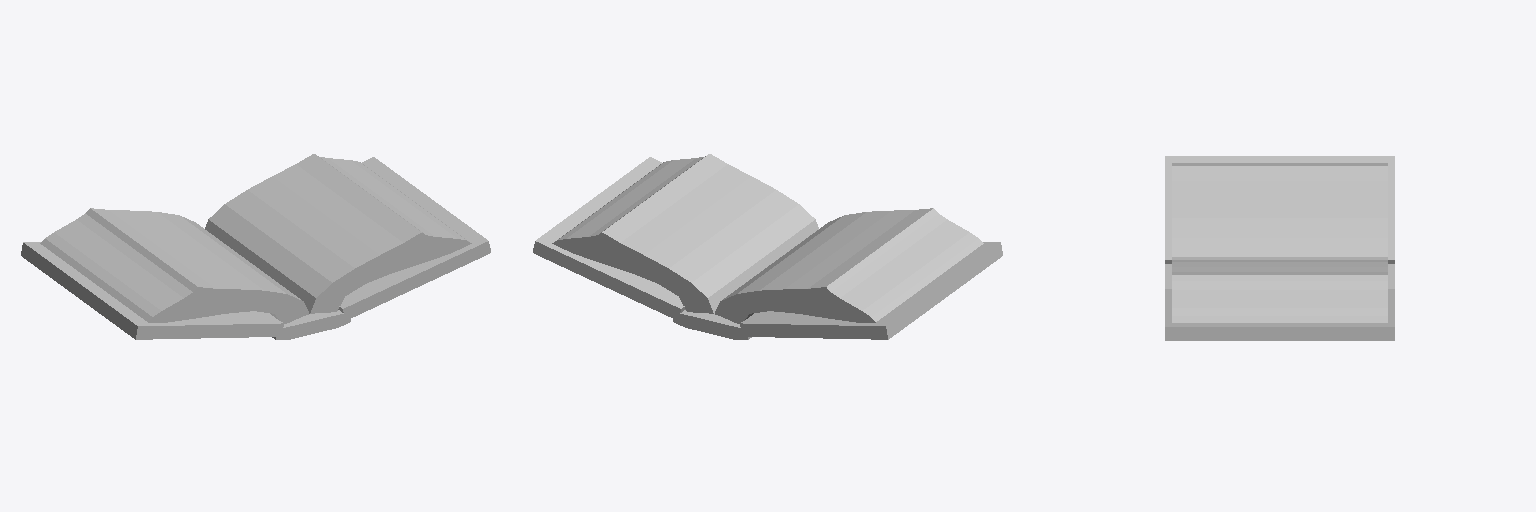
File: open book no pages v1 v0.obj
3 views of the same model, side by side, from view 1: azimuth 30°, elevation 25°; view 2: azimuth 150°, elevation 25°; view 3: azimuth 270°, elevation 25° (orthographic).
Parts seen in each view (by area): view 1: box21 (3), box21 (2), box21 (1), box21; view 2: box21 (3), box21 (2), box21 (1), box21; view 3: box21 (3), box21 (1), box21 (2).
Part boxes in pixels (bbox=[...]): box21 (3): bbox=[40, 154, 471, 323]; box21 (2): bbox=[21, 242, 283, 339]; box21 (1): bbox=[338, 157, 490, 320]; box21: bbox=[272, 310, 350, 339]; box21 (3): bbox=[552, 154, 983, 323]; box21 (2): bbox=[740, 242, 1002, 339]; box21 (1): bbox=[533, 157, 685, 320]; box21: bbox=[673, 310, 751, 339]; box21 (3): bbox=[1172, 163, 1387, 322]; box21 (1): bbox=[1165, 289, 1394, 340]; box21 (2): bbox=[1165, 156, 1394, 263].
Bounding box in the file's own units: 14.3 × 2.75 × 8.